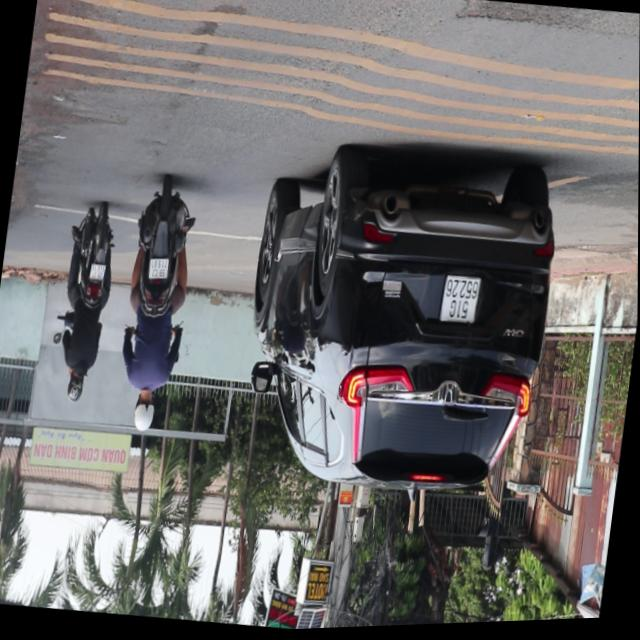helmet: (131, 391, 158, 436), (66, 375, 88, 407)
licenseplate: (110, 178, 203, 440), (49, 201, 124, 410)
nohelmet: (148, 258, 170, 283), (89, 263, 106, 283)
